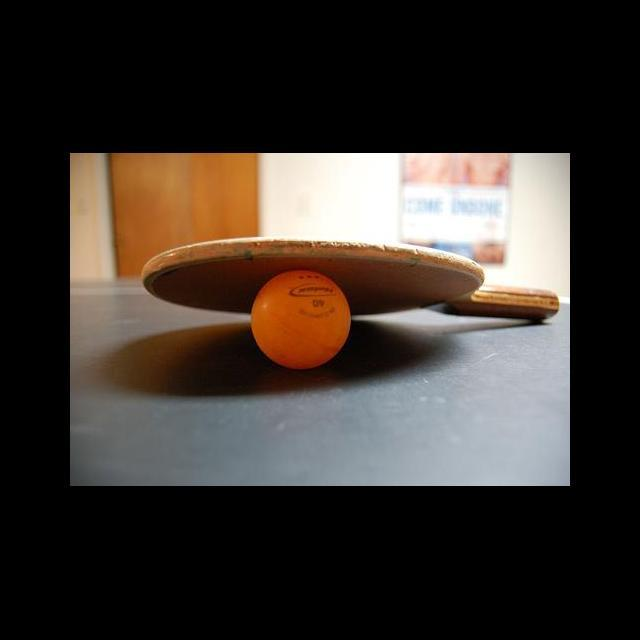ping-pong-ball: (251, 269, 352, 369)
